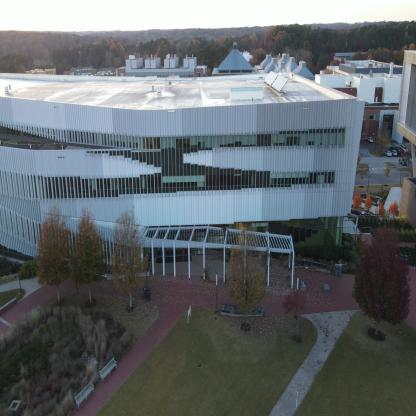Hunt Library: (0, 50, 362, 302)
